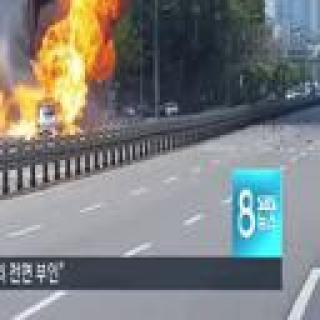fire: (0, 0, 122, 136)
